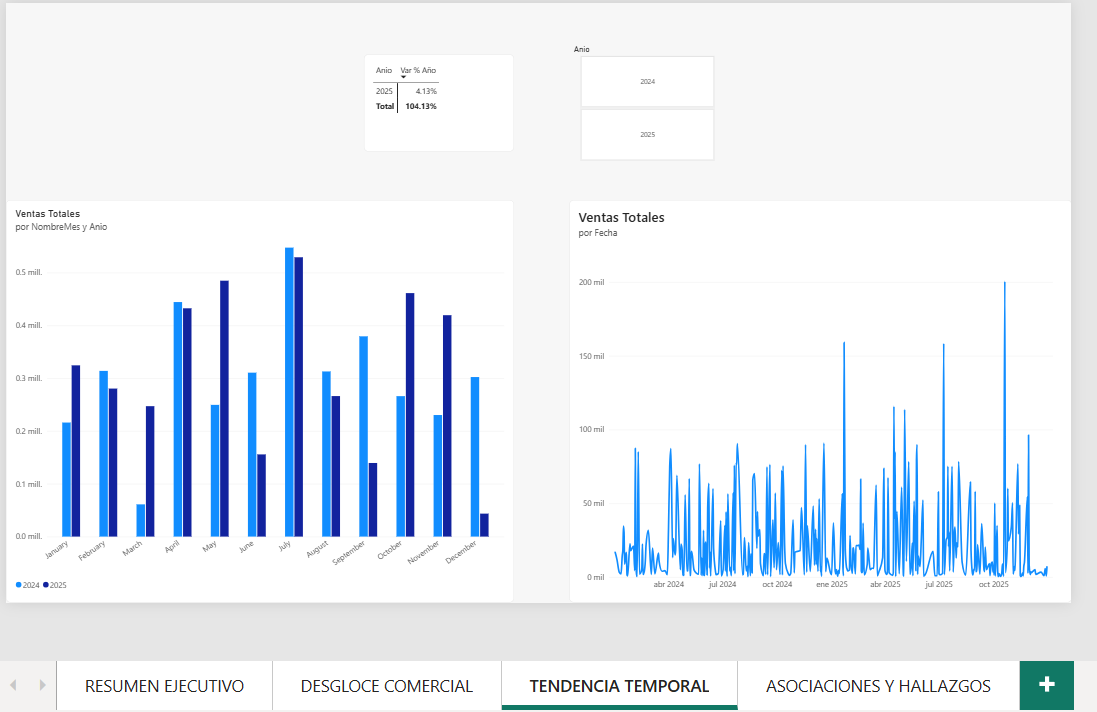

What the dashboard file says about the page in this screenshot:
{"tool":"powerbi","page":{"name":"TENDENCIA TEMPORAL","canvas":[1920,1080],"ordinal":2},"visuals":[{"type":"lineChart","fields":{"Category":["Dim Fecha.Fecha"],"Y":["Medidas.Ventas Totales"]},"box":[1015,355,905,725],"z":0},{"type":"clusteredColumnChart","fields":{"Category":["Dim Fecha.NombreMes"],"Series":["Dim Fecha.Anio"],"Y":["Medidas.Ventas Totales"]},"box":[0,355,915,725],"z":1000},{"type":"pivotTable","fields":{"Rows":["Dim Fecha.Anio"],"Values":["Medidas.Var % Año"]},"box":[645,92.5,270,175],"z":2000},{"type":"slicer","fields":{"Values":["Dim Fecha.Anio"]},"box":[1015,75,280,210],"z":3000}]}

Visuals, with their boxes on the page's 1920x1080 design canvas (x1, y1, x2, y2). These are canvas units, not pixel positions in the 1097x712 screenshot, which may show the page scaled, cropped or inside an application window:
lineChart - Dim Fecha.Fecha x Medidas.Ventas Totales: left=1015, top=355, right=1920, bottom=1080
clusteredColumnChart - Dim Fecha.NombreMes x Dim Fecha.Anio: left=0, top=355, right=915, bottom=1080
pivotTable - Dim Fecha.Anio x Medidas.Var % Año: left=645, top=92, right=915, bottom=268
slicer - Dim Fecha.Anio: left=1015, top=75, right=1295, bottom=285
